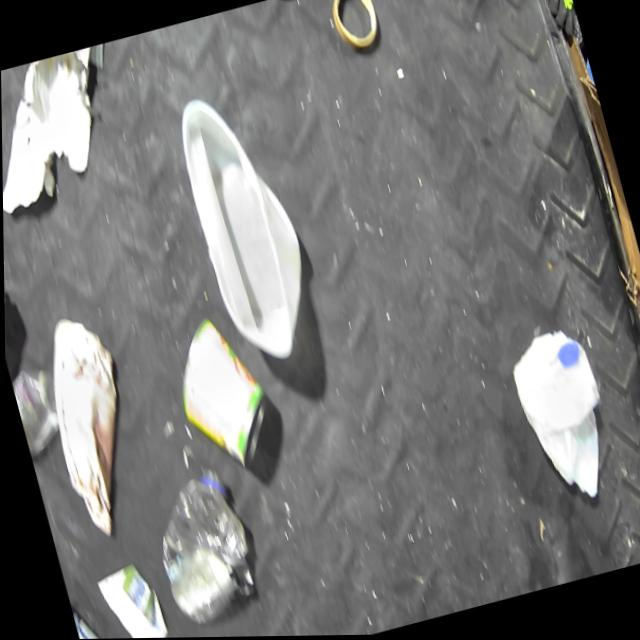can: (160, 307, 283, 480)
milk_jug: (167, 82, 326, 372), (503, 324, 625, 514)
plastic_bottle: (140, 462, 265, 630), (7, 359, 70, 459)
